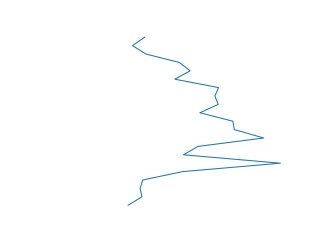floodSwamp: (123, 37, 289, 204)
